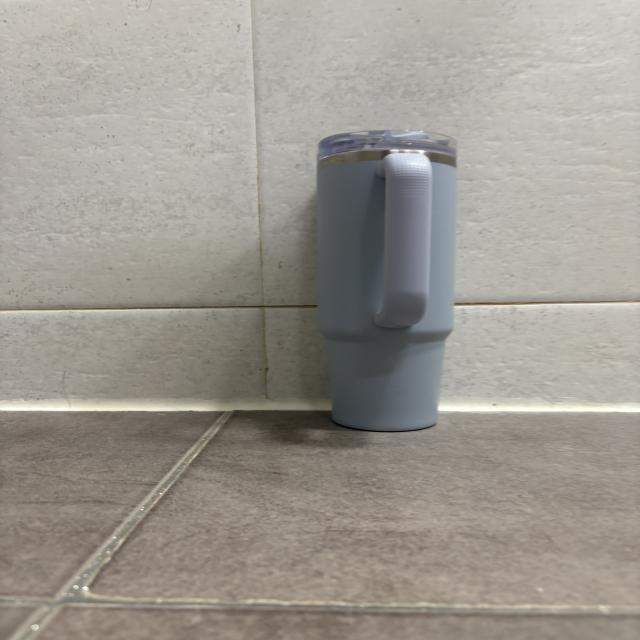waterbottle: (317, 127, 456, 431)
